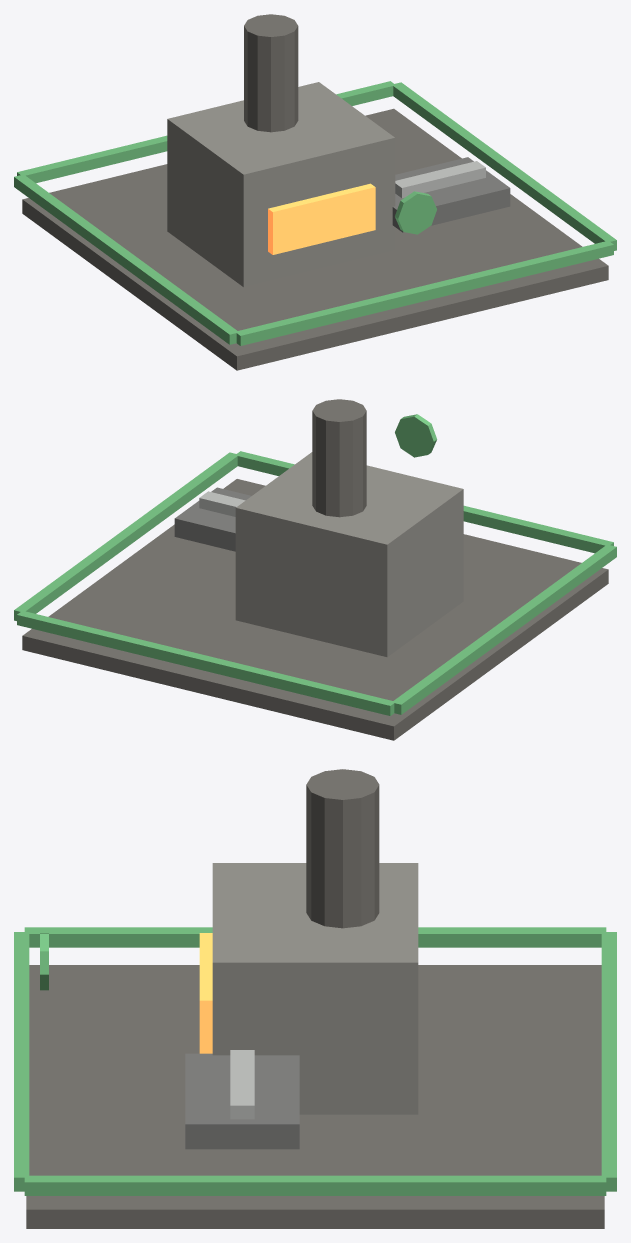
The model's file is t3_smelter.glb.
3 renders of one model, top to bottom at view 1: azimuth 30°, elevation 25°; view 2: azimuth 150°, elevation 25°; view 3: azimuth 270°, elevation 25°, orthographic. The views are drawn at different scales.
Parts seen in each view (by area): view 1: FootprintBase, FurnaceBody, Chimney, TierFrontTrim, HearthGlow, TierLeftTrim, TierRightTrim, IngotTray, TierBackTrim, TierEmblem, Ingot, Ingot.002; view 2: FootprintBase, FurnaceBody, Chimney, TierBackTrim, TierLeftTrim, TierRightTrim, TierFrontTrim, IngotTray, TierEmblem, Ingot.003; view 3: FootprintBase, FurnaceBody, TierRightTrim, Chimney, IngotTray, TierLeftTrim, TierBackTrim, TierFrontTrim, HearthGlow, Ingot.003.
Part boxes in pixels (x1,y1,x2,y2): FootprintBase: (22,108,608,370); FurnaceBody: (167,82,395,287); Chimney: (244,14,298,132); TierFrontTrim: (236,240,613,345); HearthGlow: (268,183,375,254); TierLeftTrim: (14,174,238,344); TierRightTrim: (393,82,616,250); IngotTray: (392,157,510,232); TierBackTrim: (17,81,395,183); TierEmblem: (395,191,436,234); Ingot: (395,174,433,198); Ingot.002: (437,165,468,189); FootprintBase: (22,479,608,740); FurnaceBody: (235,452,463,657); Chimney: (312,399,366,517); TierBackTrim: (17,610,394,715); TierLeftTrim: (392,544,616,714); TierRightTrim: (14,452,237,620); TierFrontTrim: (235,451,613,553); IngotTray: (174,487,251,551); TierEmblem: (395,414,437,457); Ingot.003: (199,491,238,515); FootprintBase: (26,965,604,1228); FurnaceBody: (212,863,418,1114); TierRightTrim: (24,1175,606,1195); Chimney: (306,769,379,928); IngotTray: (185,1053,299,1149); TierLeftTrim: (24,927,606,947); TierBackTrim: (601,932,616,1191); TierFrontTrim: (14,932,29,1191); HearthGlow: (199,933,212,1053); Ingot.003: (230,1085,254,1119).
Bounding box in the file's own units: 3.96 × 2.17 × 3.96.
